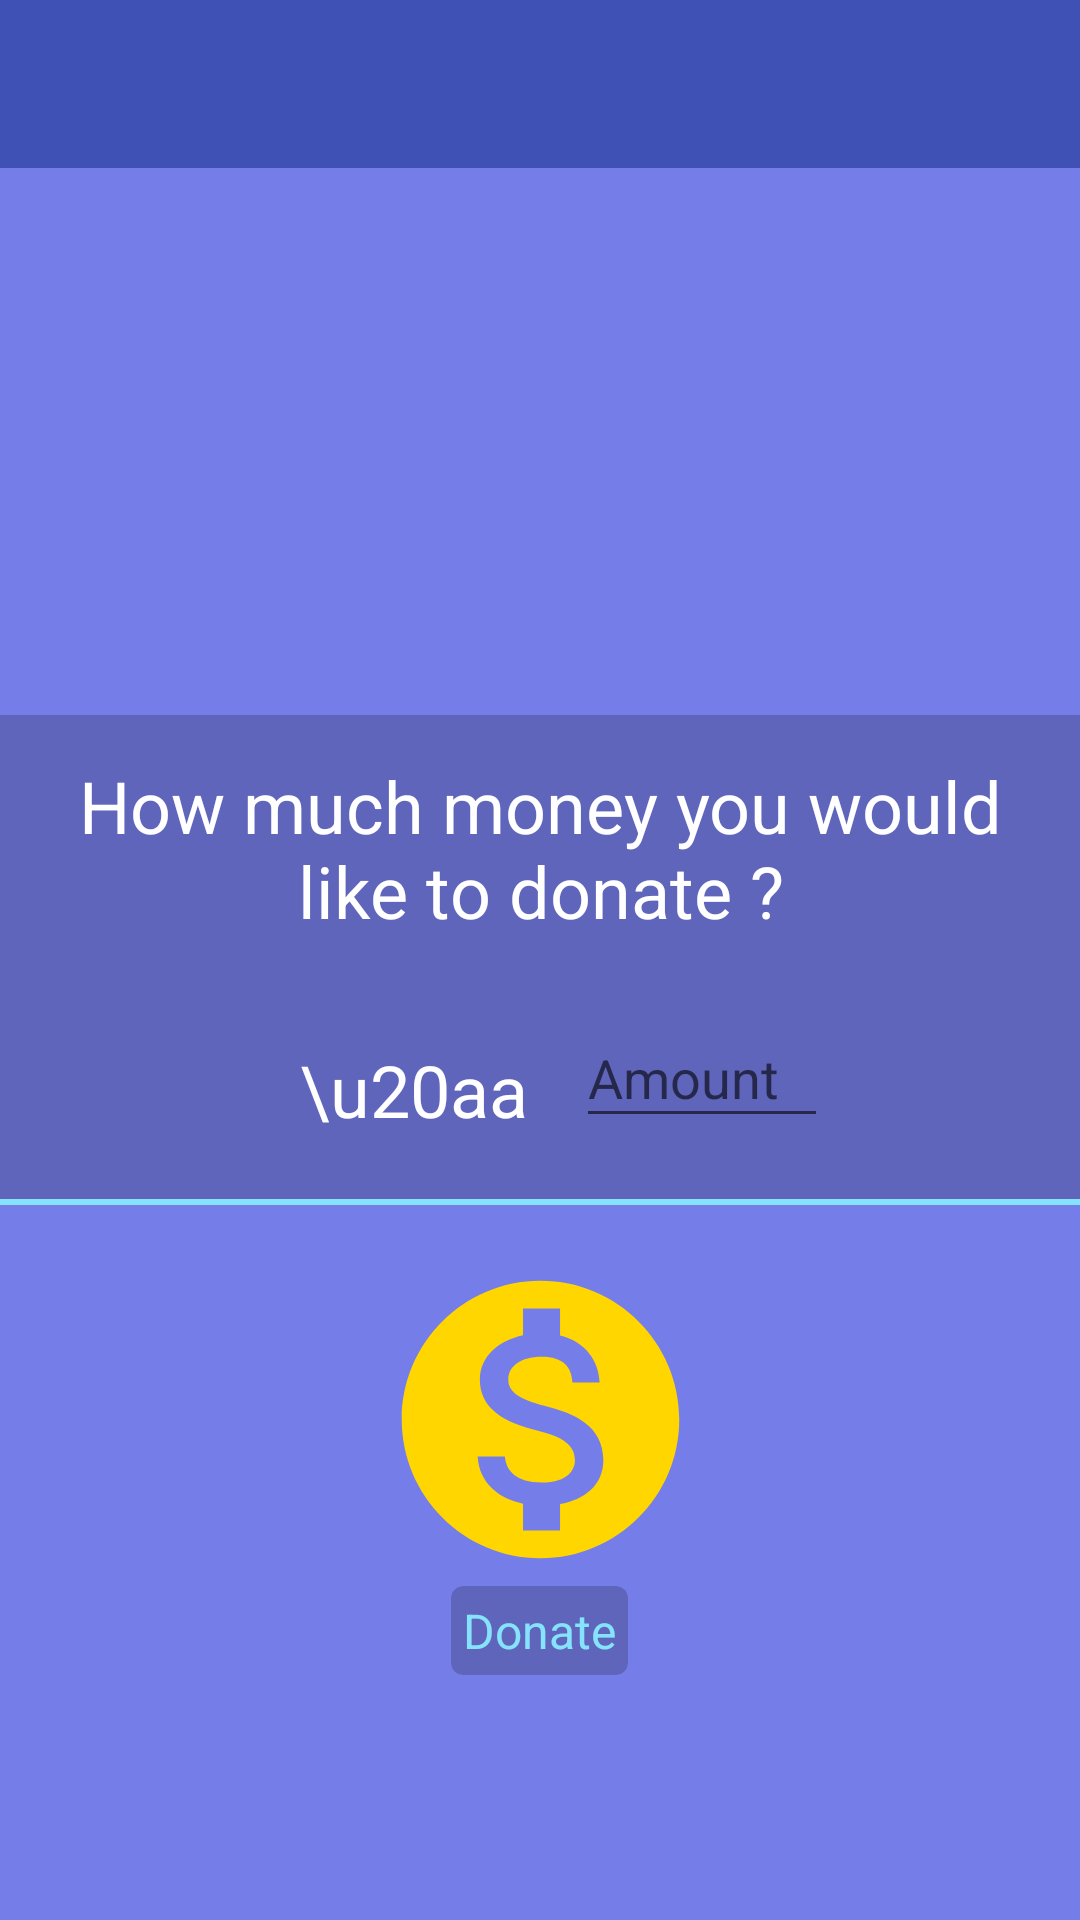

Where to tap for icons on this 1080*1920 app screen, as point (x, y):
monetization on: point (540, 1419)
